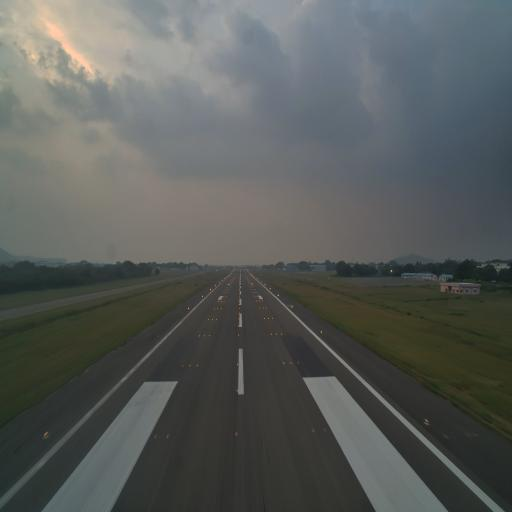on: (41, 430, 50, 442), (423, 414, 429, 427), (140, 432, 146, 442), (334, 425, 338, 435), (233, 431, 238, 438), (310, 427, 315, 434), (195, 362, 200, 369), (154, 432, 158, 440), (181, 362, 185, 369), (322, 427, 326, 433), (235, 388, 239, 394), (237, 360, 240, 368), (289, 360, 293, 366), (296, 360, 300, 366), (166, 433, 169, 440), (189, 362, 192, 369), (282, 361, 285, 367)
